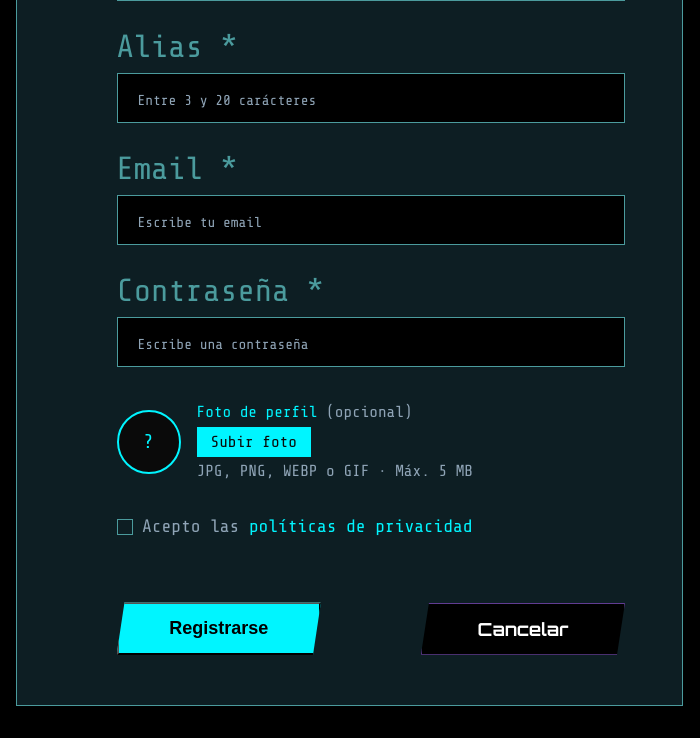
Test: RegisterForm — Cobertura completa › muestra error de primer apellido obligatorio al enviar vacío
(page scrolled)
Click the button "Registrarse" at (219, 629), box 116,602 -> 321,655
(page scrolled)
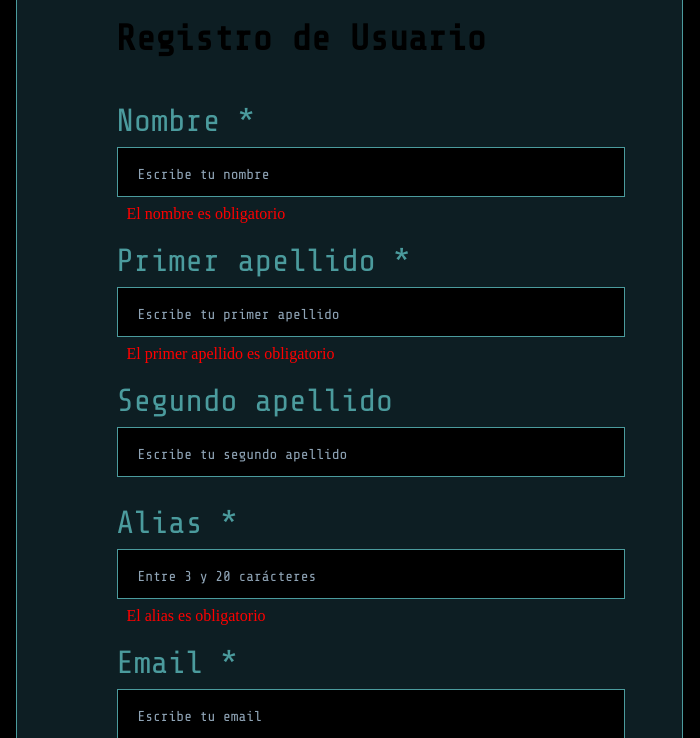
Now the text "El primer apellido es obligatorio" is shown, box 126,345 -> 334,362
